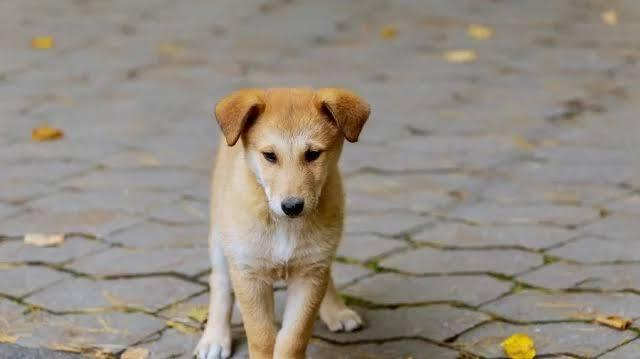puppy-dog: (194, 85, 373, 359)
